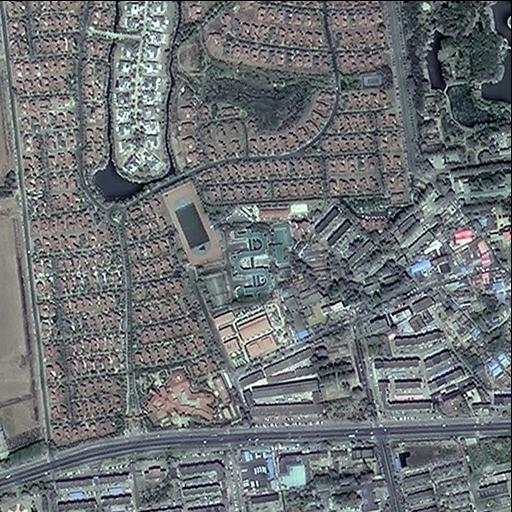school: (161, 175, 296, 310)
